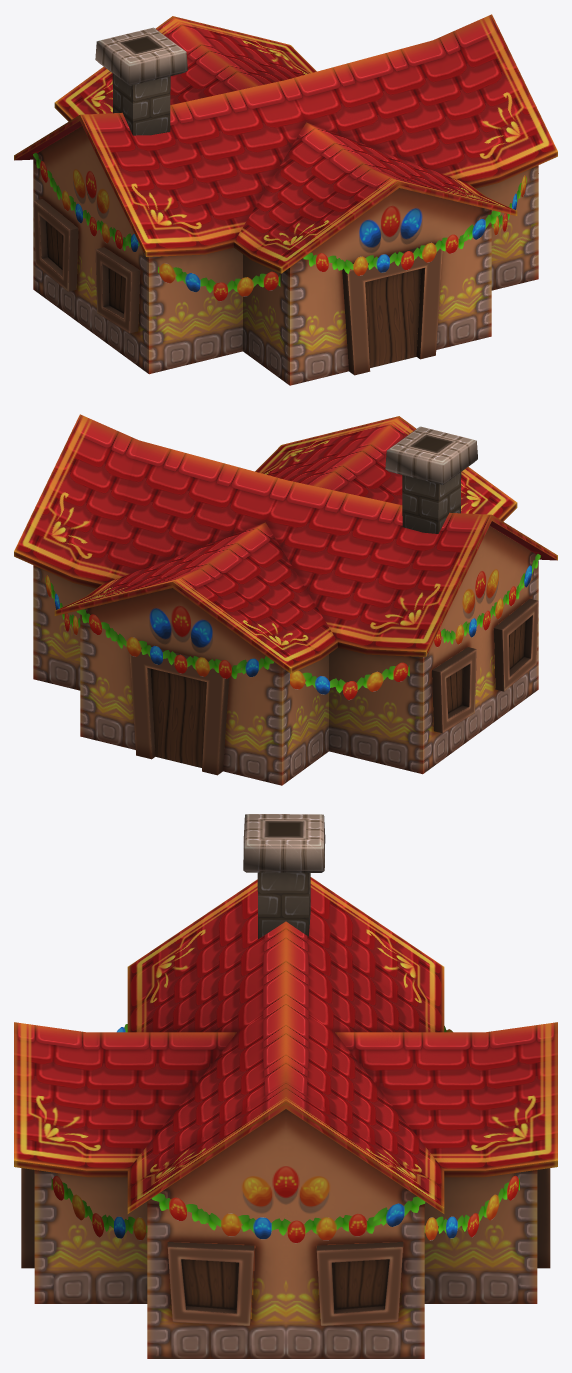
Rendered from House_06_F.FBX.
The picture shows the model from 3 angles, top to bottom: view 1: azimuth 30°, elevation 25°; view 2: azimuth 150°, elevation 25°; view 3: azimuth 270°, elevation 25°; orthographic projection. The views are drawn at different scales.
Visible parts, largest first — view 1: House_06_F, Plane763; view 2: House_06_F, Plane763; view 3: House_06_F, Plane763.
Boxes of the visible parts, bbox=[...] form: House_06_F: bbox=[14, 14, 557, 385]; Plane763: bbox=[33, 152, 526, 301]; House_06_F: bbox=[14, 414, 557, 785]; Plane763: bbox=[45, 554, 540, 700]; House_06_F: bbox=[14, 814, 557, 1358]; Plane763: bbox=[51, 1024, 519, 1243].
Bounding box in the file's own units: 2.51 × 1.61 × 2.39.
